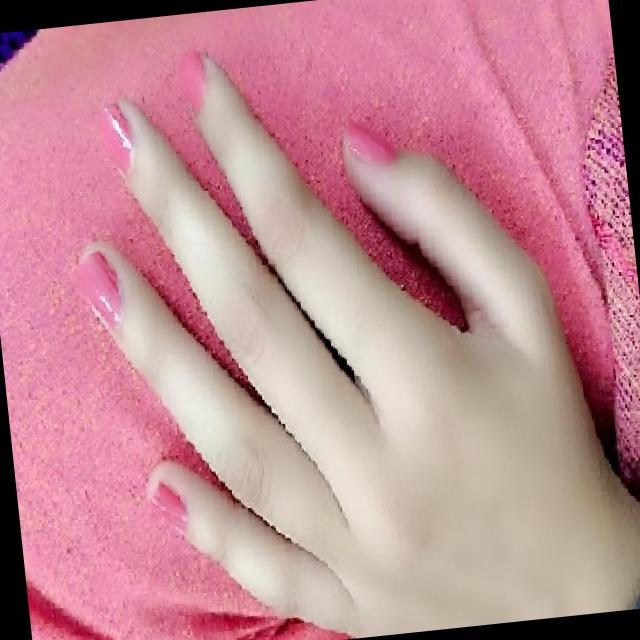Nail: (74, 251, 119, 326), (98, 103, 132, 170), (344, 121, 396, 162), (150, 481, 187, 533), (179, 50, 204, 111)
